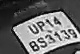1: (53, 31, 63, 43), (44, 19, 54, 27)
3: (61, 27, 70, 39), (45, 34, 55, 44)
4: (53, 16, 61, 26)
9: (67, 27, 77, 40)
B: (28, 40, 39, 52)
P: (35, 20, 46, 31)
S: (37, 36, 47, 48)
U: (27, 22, 40, 35)
